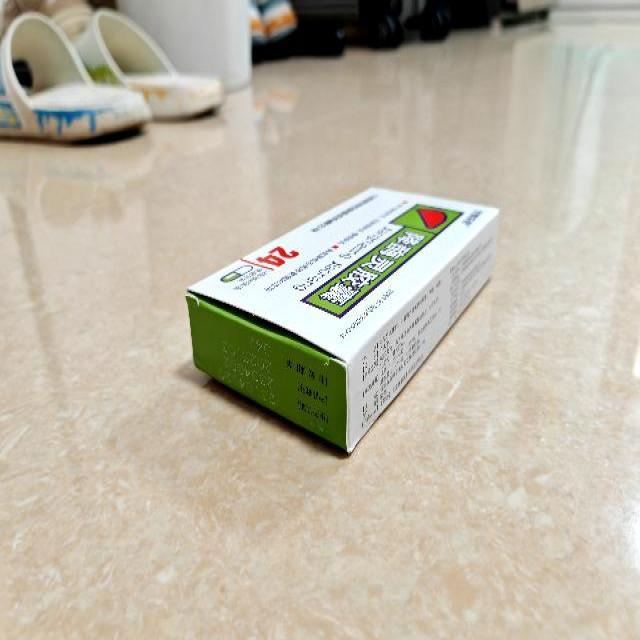box: (185, 182, 501, 454)
